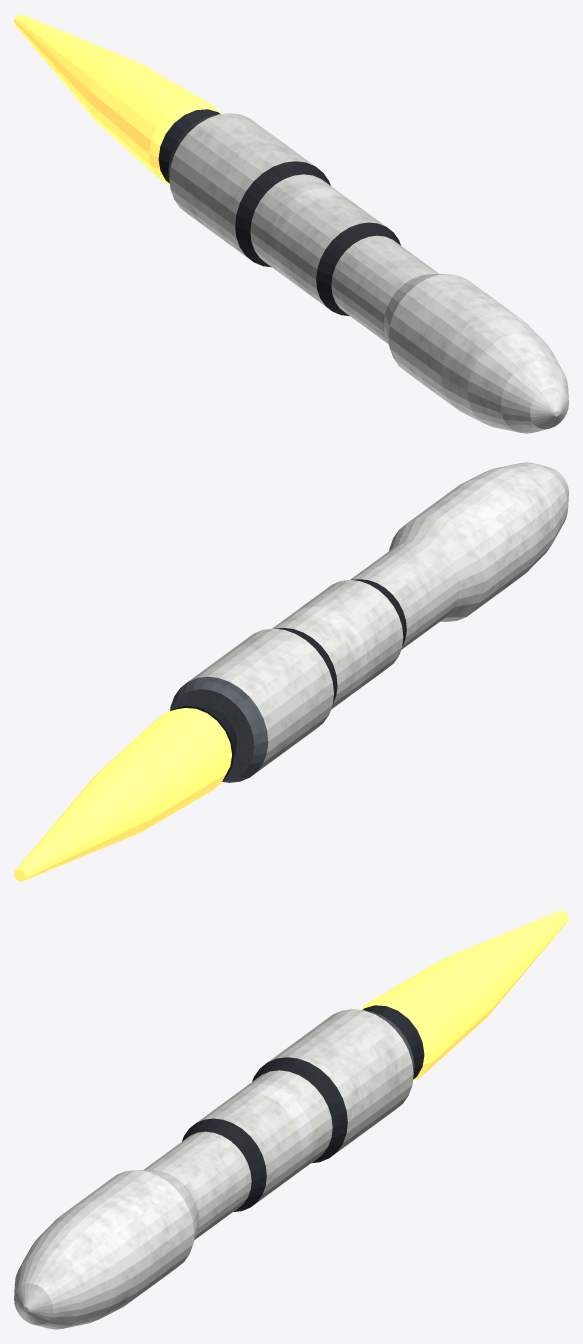
File: mirv.gltf
The picture shows the model from 3 angles, top to bottom: view 1: azimuth 30°, elevation 25°; view 2: azimuth 150°, elevation 25°; view 3: azimuth 330°, elevation 25°; orthographic projection.
Parts seen in each view (by area): view 1: MIRV; view 2: MIRV; view 3: MIRV.
Boxes of the visible parts, bbox=[...] form: MIRV: bbox=[14, 14, 568, 433]; MIRV: bbox=[14, 462, 568, 881]; MIRV: bbox=[14, 910, 568, 1329].
Size of the model in its own units: 0.152 by 0.152 by 1.43.
5 materials, 4 textured.
